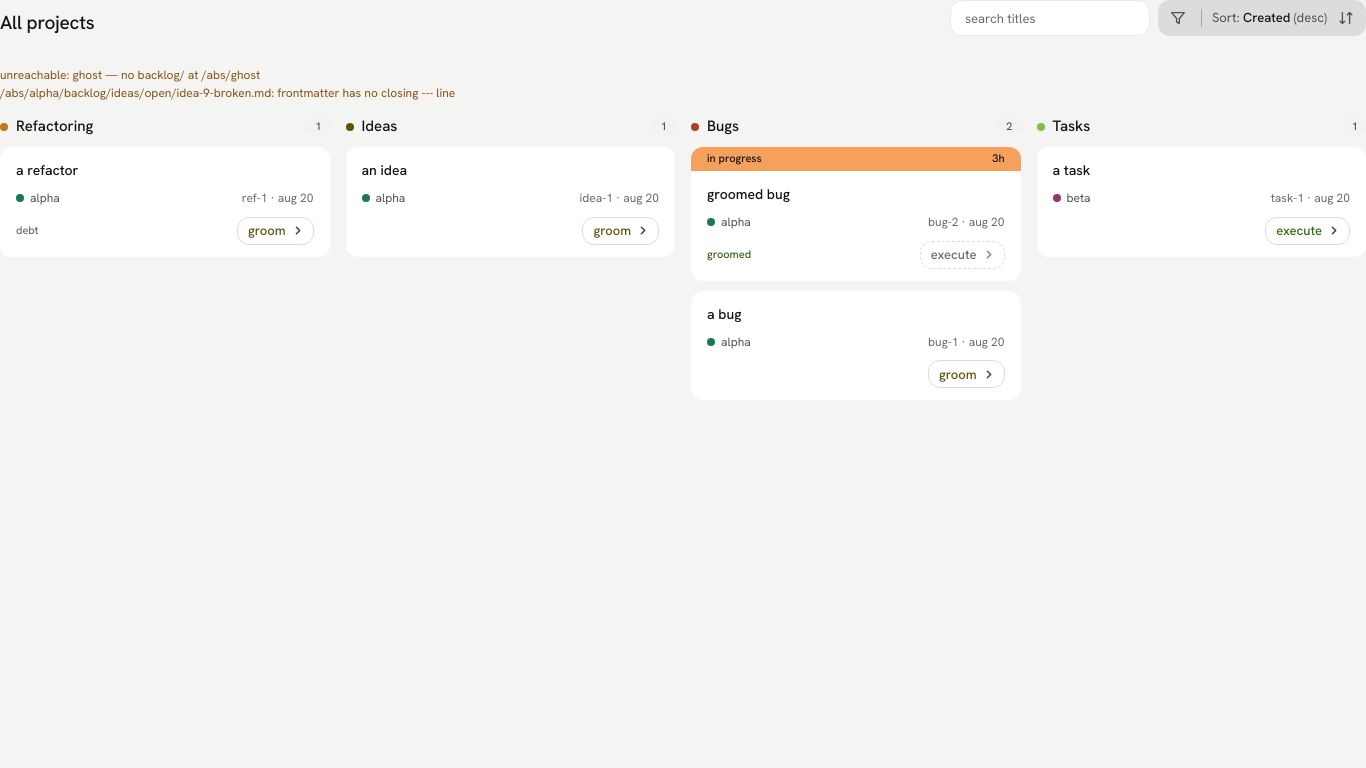
Scenario: BoardView › renders a done item that still carries a started date as done, not live
Expected: the text "Bugs" is shown, [707,116,739,137]
Click the button named "Filters".
click(1178, 18)  # box [1161,3,1195,33]
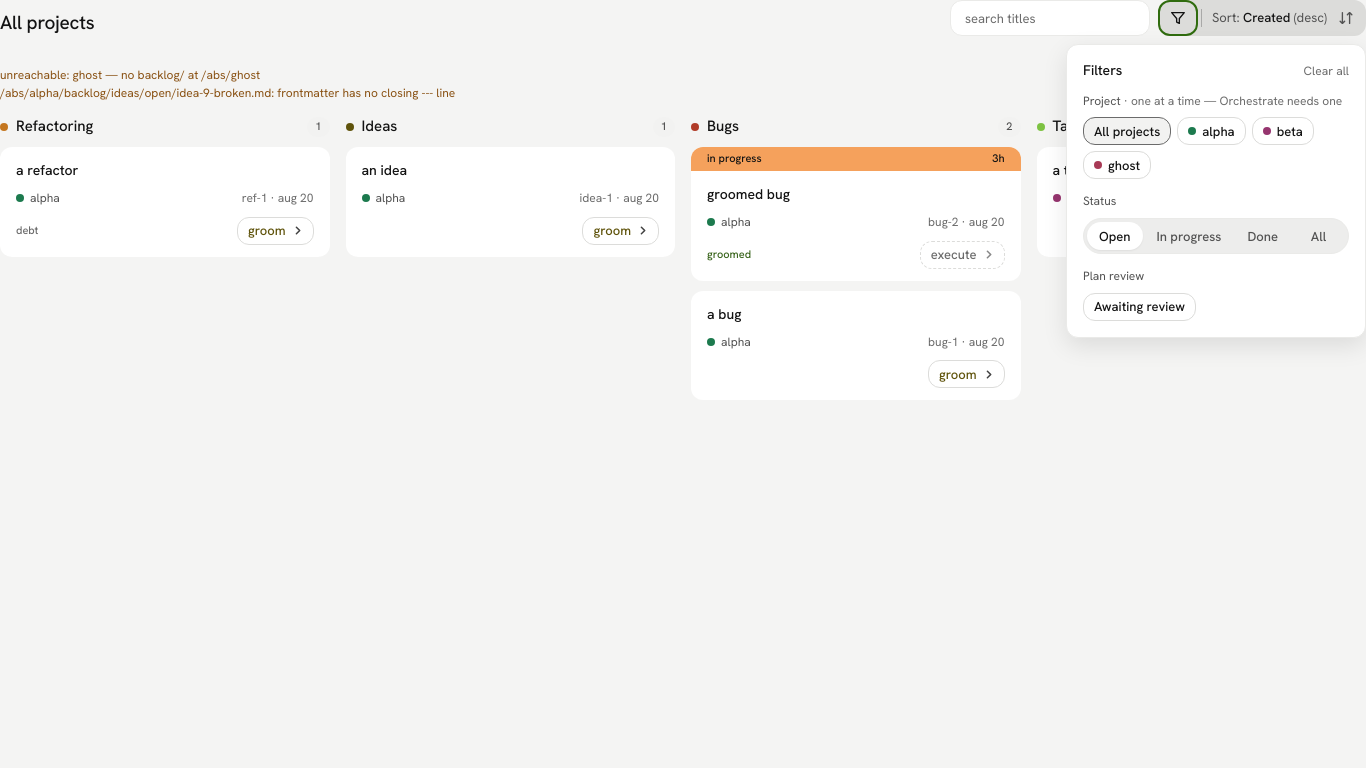
Click the button "Done".
click(1263, 236)  # box [1236,222,1290,250]
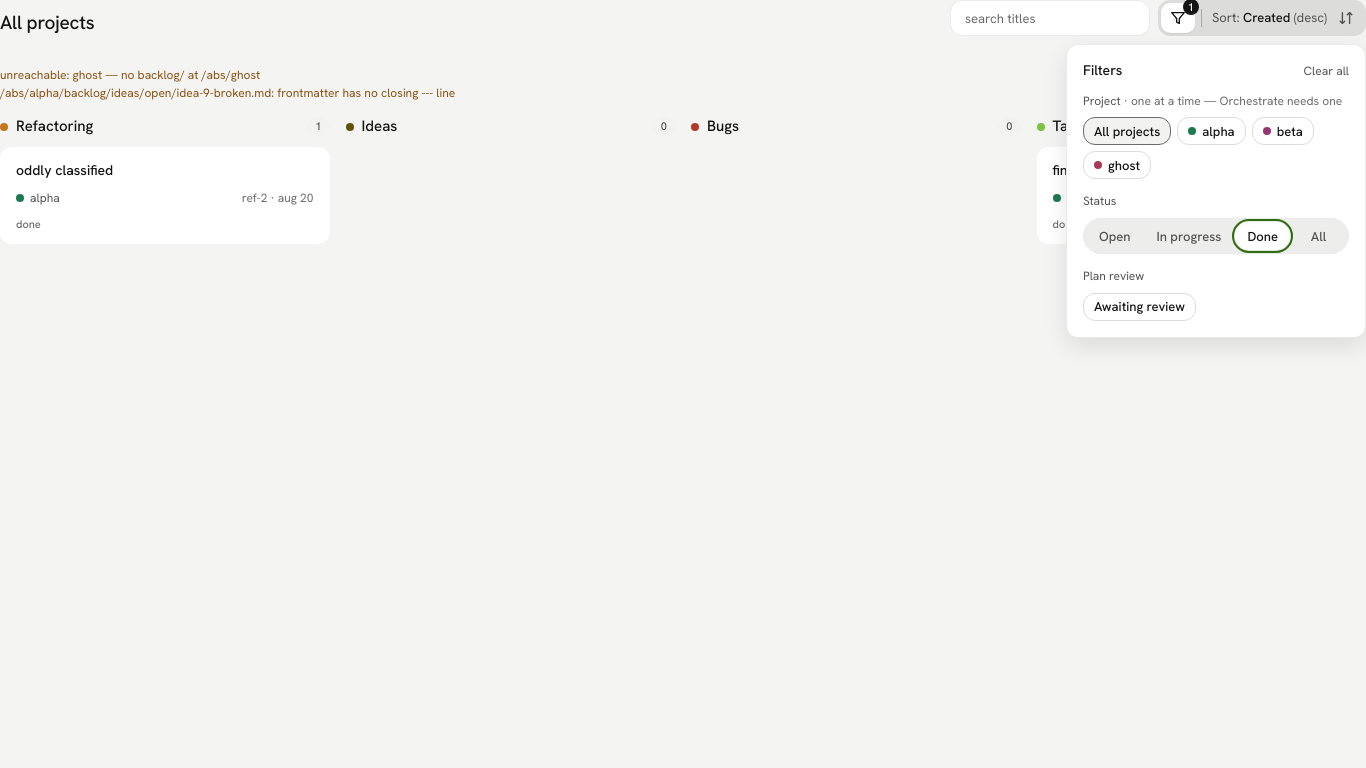
Result: the element with class "board-card-live" is gone
